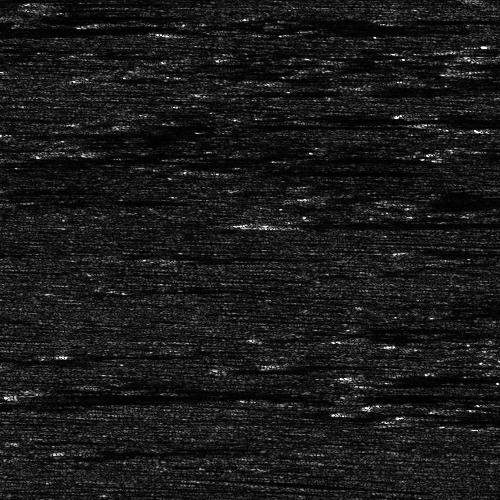rock: (14, 9, 129, 18), (214, 218, 297, 227), (155, 168, 248, 175), (436, 51, 500, 60), (414, 121, 455, 128), (343, 373, 396, 378), (391, 111, 444, 116), (462, 126, 500, 131), (435, 69, 488, 72)
shadow: (256, 218, 500, 227), (72, 9, 217, 18), (202, 168, 351, 175), (364, 391, 500, 396), (370, 373, 500, 378), (0, 25, 129, 30), (435, 121, 500, 128), (418, 111, 471, 116), (462, 69, 500, 72)
